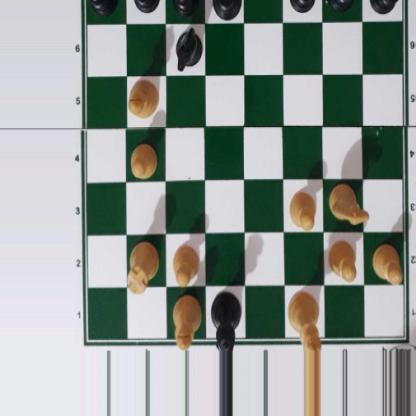black-bishop: (210, 0, 242, 22)
black-knight: (174, 25, 203, 72)
black-pawn: (369, 0, 399, 14), (172, 0, 199, 15), (89, 0, 117, 13), (133, 0, 159, 13), (328, 0, 356, 11), (288, 0, 316, 11)
black-queen: (211, 290, 242, 352)
white-bishop: (172, 292, 202, 349), (127, 79, 159, 119)
white-king: (287, 290, 323, 352)
white-knight: (327, 179, 370, 225)
white-pawn: (326, 238, 358, 280), (288, 189, 317, 232), (171, 243, 199, 287), (372, 242, 402, 282), (129, 142, 158, 180)
white-rook: (125, 240, 159, 295)
